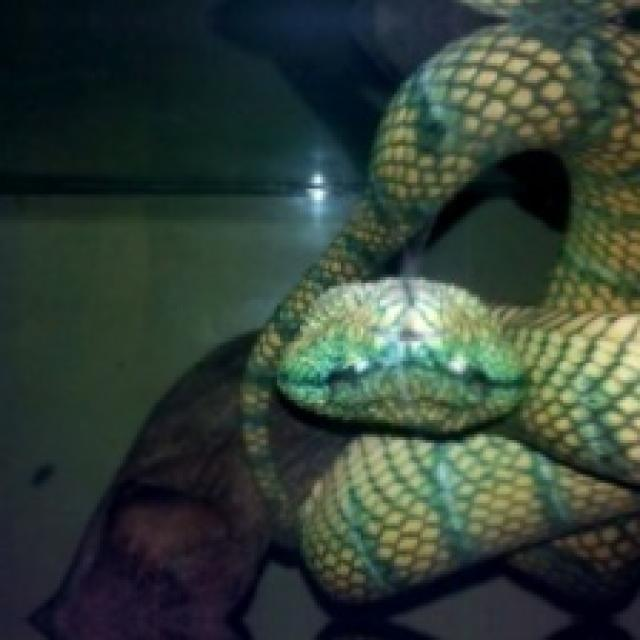north ph temple pitviper: (240, 0, 637, 611)
